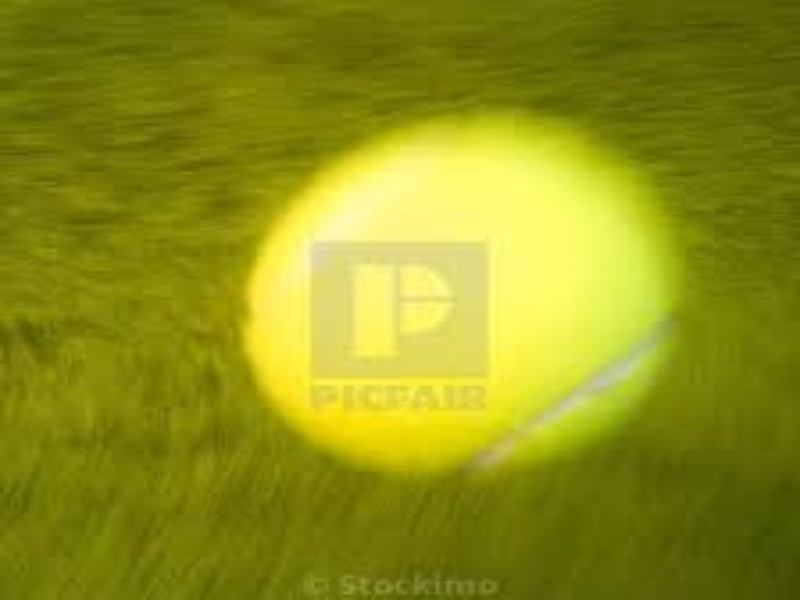tennis ball: (235, 103, 682, 497)
